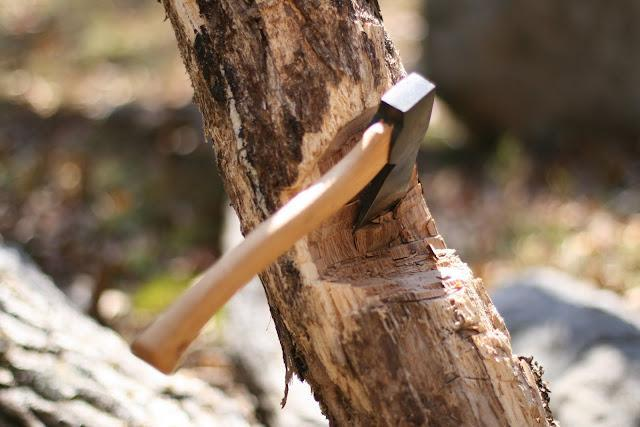machado: (133, 73, 435, 372)
